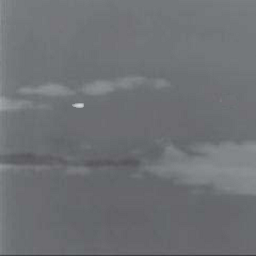Target: (70, 102, 85, 109)
